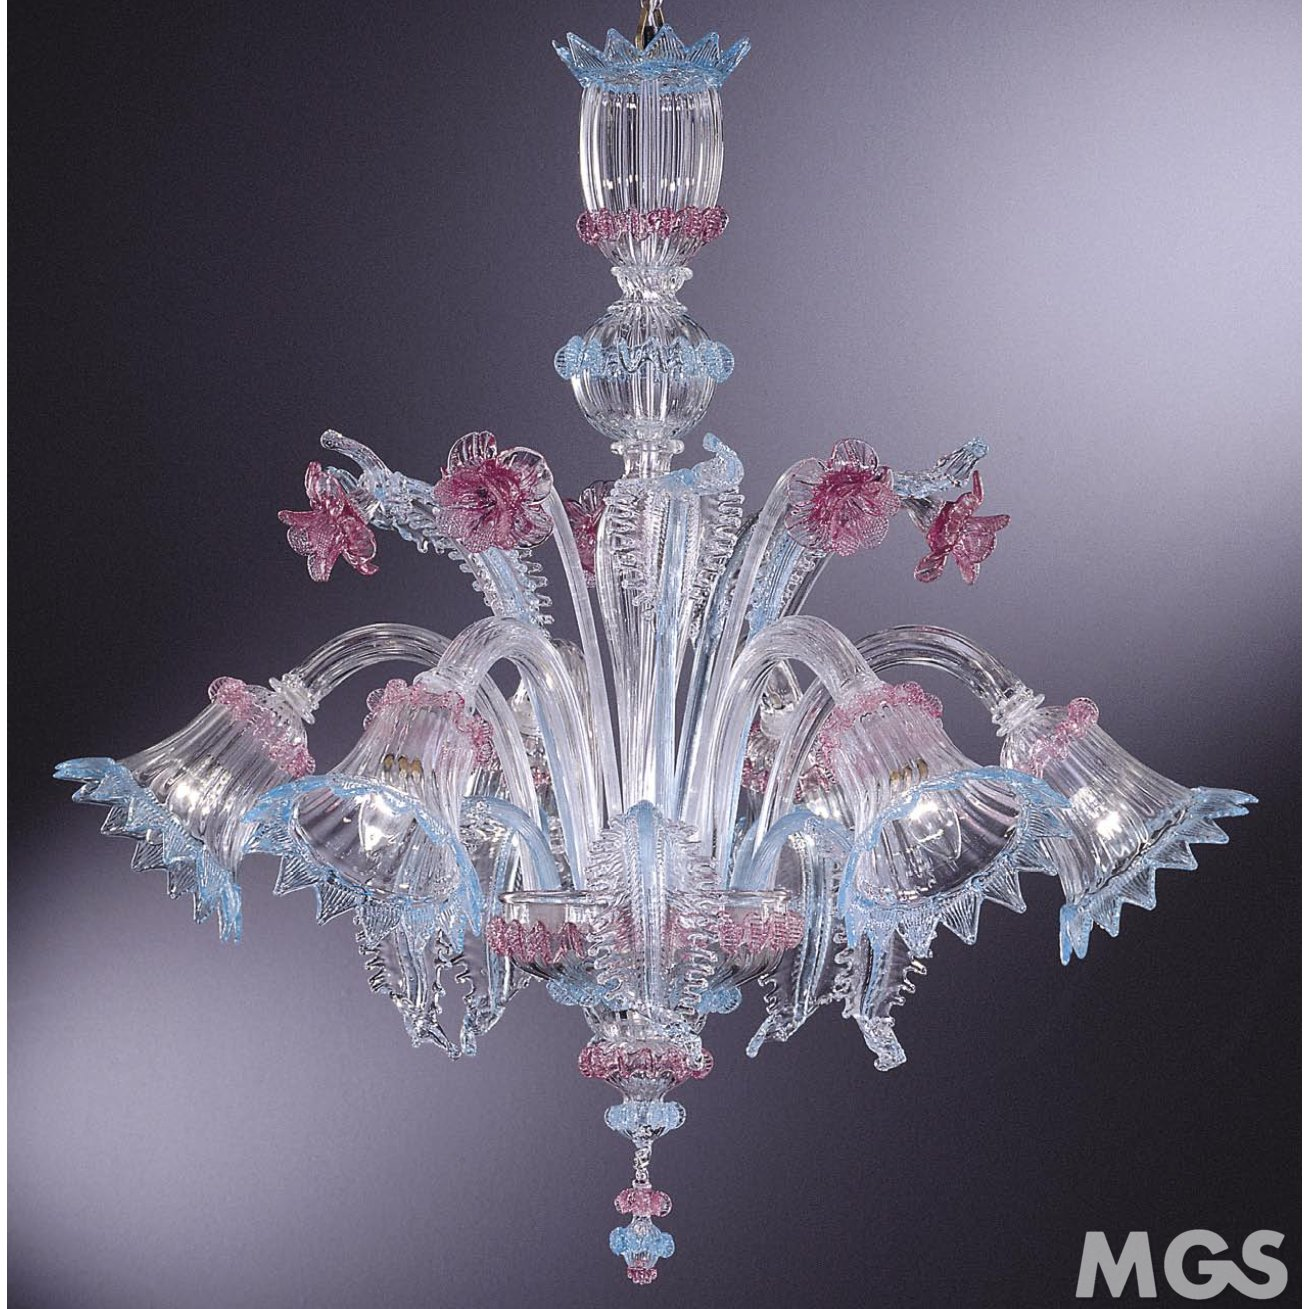chandelier: (47, 20, 1280, 1223)
